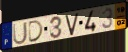3: (49, 15, 63, 40), (101, 7, 113, 30)
4: (84, 9, 98, 33)
D: (28, 19, 45, 44)
U: (12, 21, 28, 46)
V: (64, 12, 80, 37)
